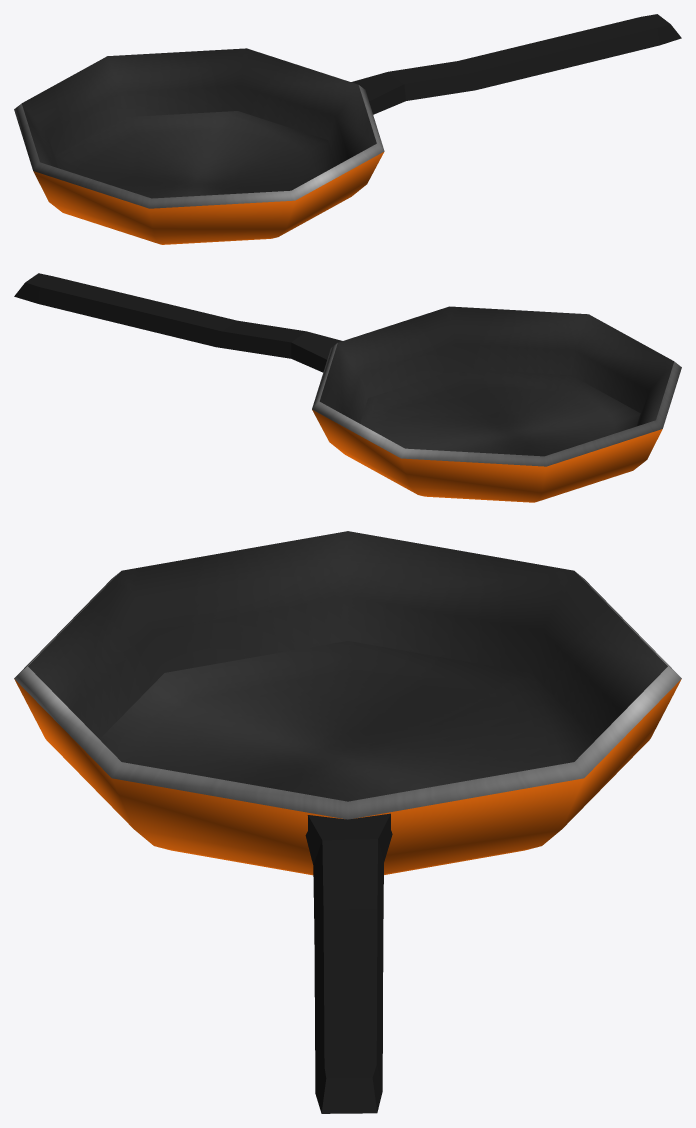
File: Frying_Pan_E.FBX
3 views of the same model, one above another, from view 1: azimuth 30°, elevation 25°; view 2: azimuth 150°, elevation 25°; view 3: azimuth 270°, elevation 25° (orthographic). The views are drawn at different scales.
Parts seen in each view (by area): view 1: Frying_Pan; view 2: Frying_Pan; view 3: Frying_Pan.
Part boxes in pixels (<box>): Frying_Pan: <box>14,14,681,244</box>; Frying_Pan: <box>14,273,681,502</box>; Frying_Pan: <box>14,531,681,1113</box>.
Size of the model in its own units: 141 by 13.23 by 73.2.
